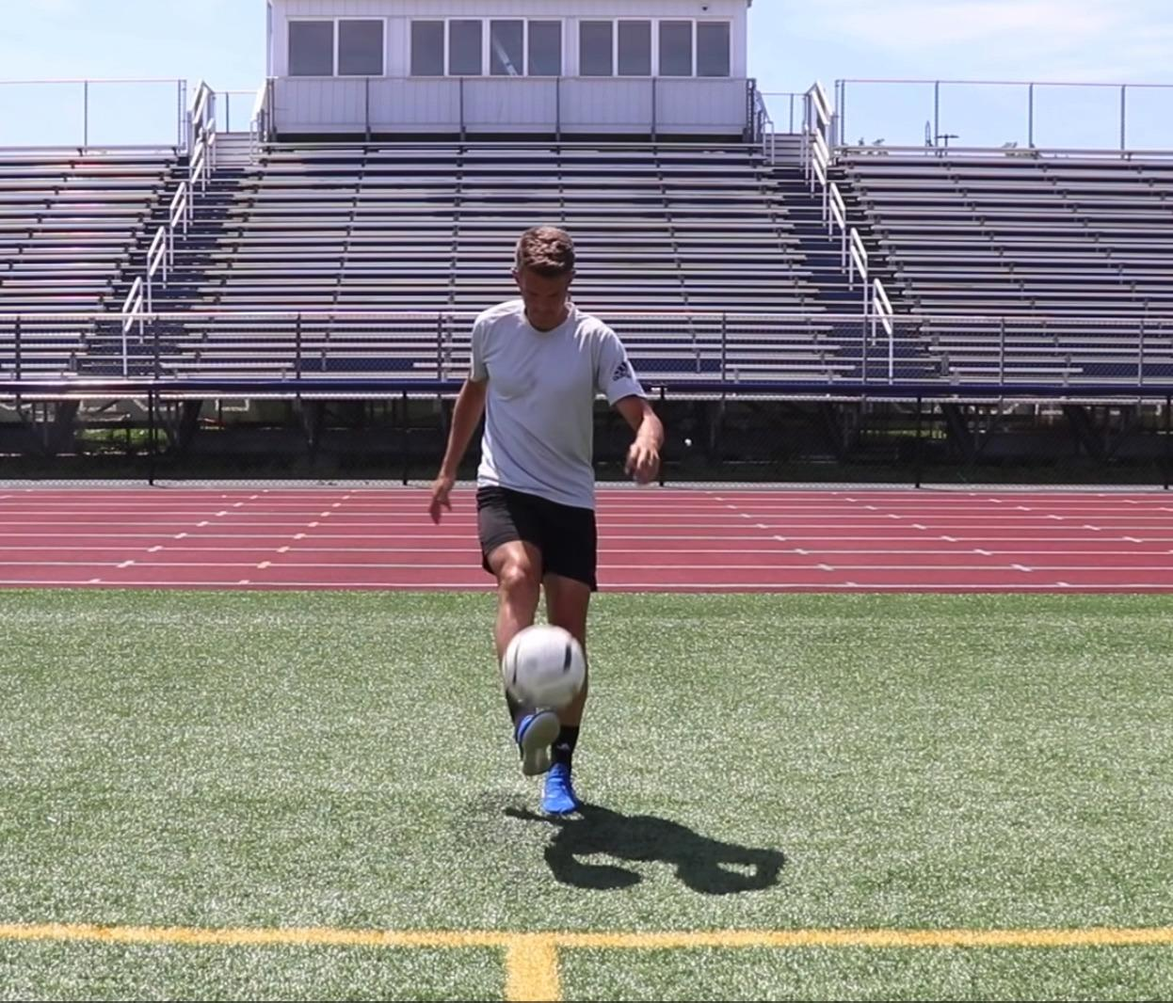ball: (502, 623, 585, 708)
foot: (512, 706, 557, 779), (540, 757, 584, 826)
person: (424, 226, 666, 826)
